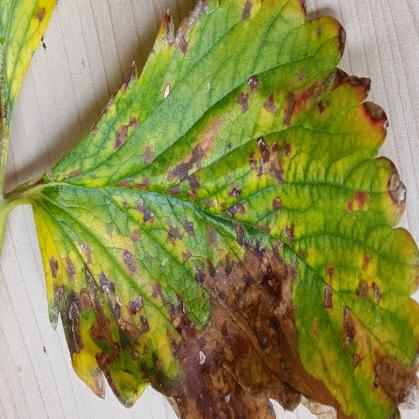Angular Leafspot: (23, 0, 418, 418)
